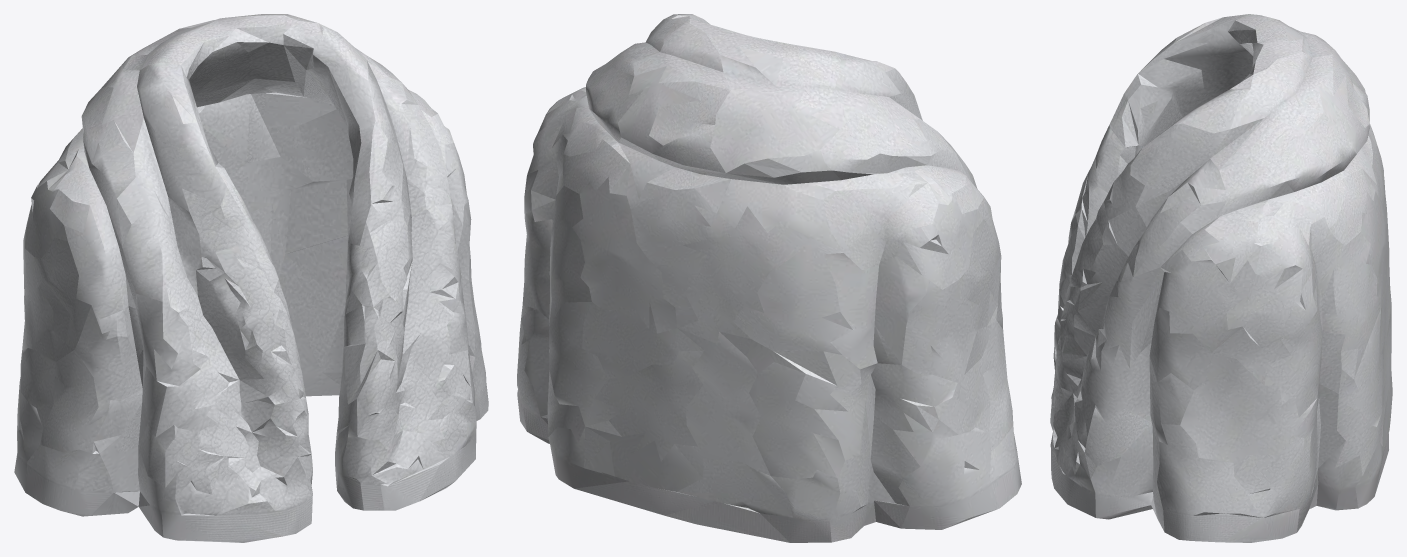
The model's file is shoulder-towel-mobile4.glb.
The picture shows the model from 3 angles, left to right: view 1: azimuth 30°, elevation 25°; view 2: azimuth 150°, elevation 25°; view 3: azimuth 270°, elevation 25°; orthographic projection. The views are drawn at different scales.
Parts seen in each view (by area): view 1: output_unwrapped; view 2: output_unwrapped; view 3: output_unwrapped.
Boxes of the visible parts, box(x1,y1,x2,y2) form: output_unwrapped: box(14, 14, 488, 542); output_unwrapped: box(517, 14, 1021, 542); output_unwrapped: box(1050, 14, 1392, 542).
Size of the model in its own units: 1.9 by 1.7 by 1.29.
Materials: 1 (1 with a texture image).
